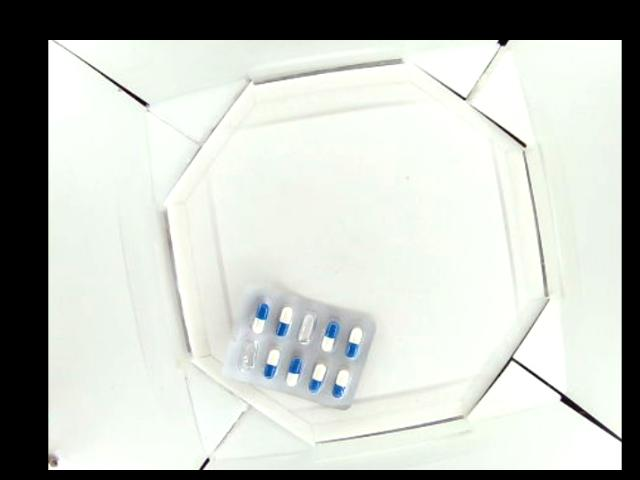Medicine: (221, 277, 375, 408)
